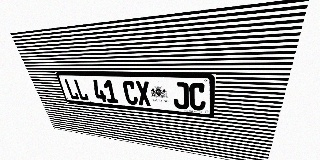1: (102, 80, 119, 103)
4: (91, 80, 107, 102)
C: (189, 82, 206, 111), (122, 80, 139, 105)
J: (172, 82, 189, 110)
L: (63, 79, 80, 100), (73, 79, 89, 101)
X: (135, 81, 152, 106)
